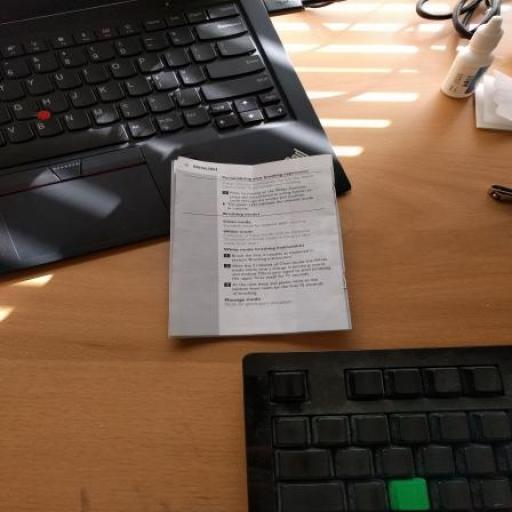paper: (39, 65, 488, 430)
